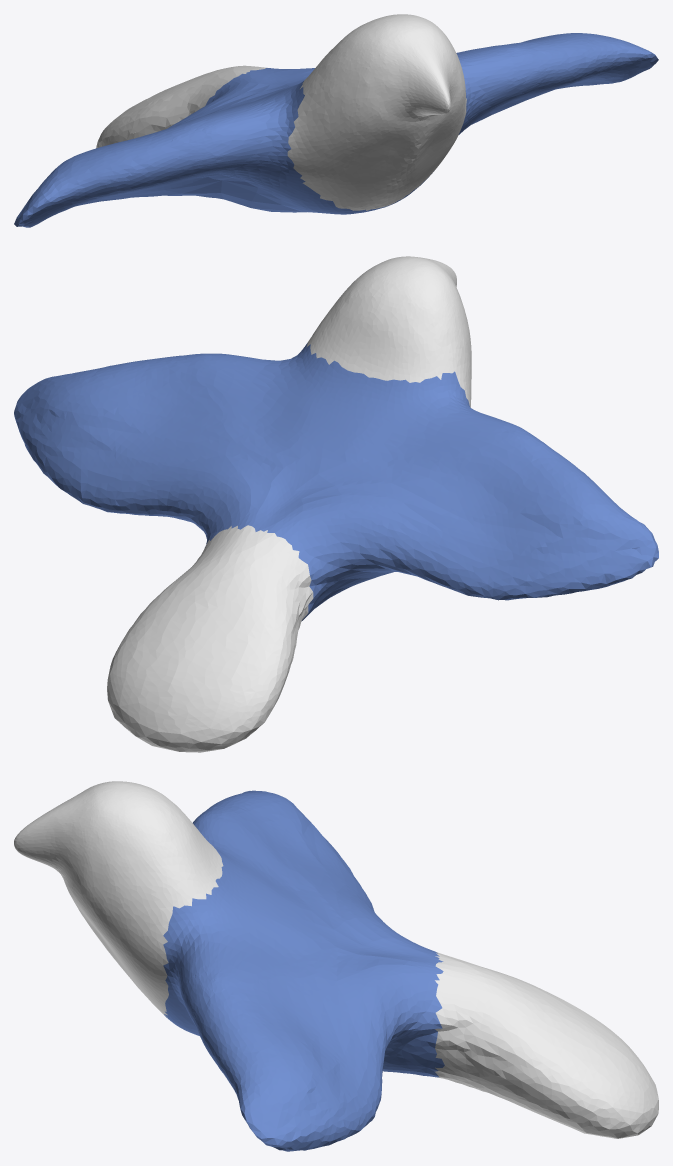
File: Bird.fbx
The picture shows the model from 3 angles, top to bottom: view 1: azimuth 30°, elevation 25°; view 2: azimuth 150°, elevation 25°; view 3: azimuth 270°, elevation 25°; orthographic projection. The views are drawn at different scales.
Parts seen in each view (by area): view 1: Icosphere; view 2: Icosphere; view 3: Icosphere.
Boxes of the visible parts, x1,y1,x2,y2 form: Icosphere: (14, 14, 658, 227); Icosphere: (14, 256, 658, 752); Icosphere: (14, 781, 658, 1151).
Size of the model in its own units: 319 by 148 by 258.
